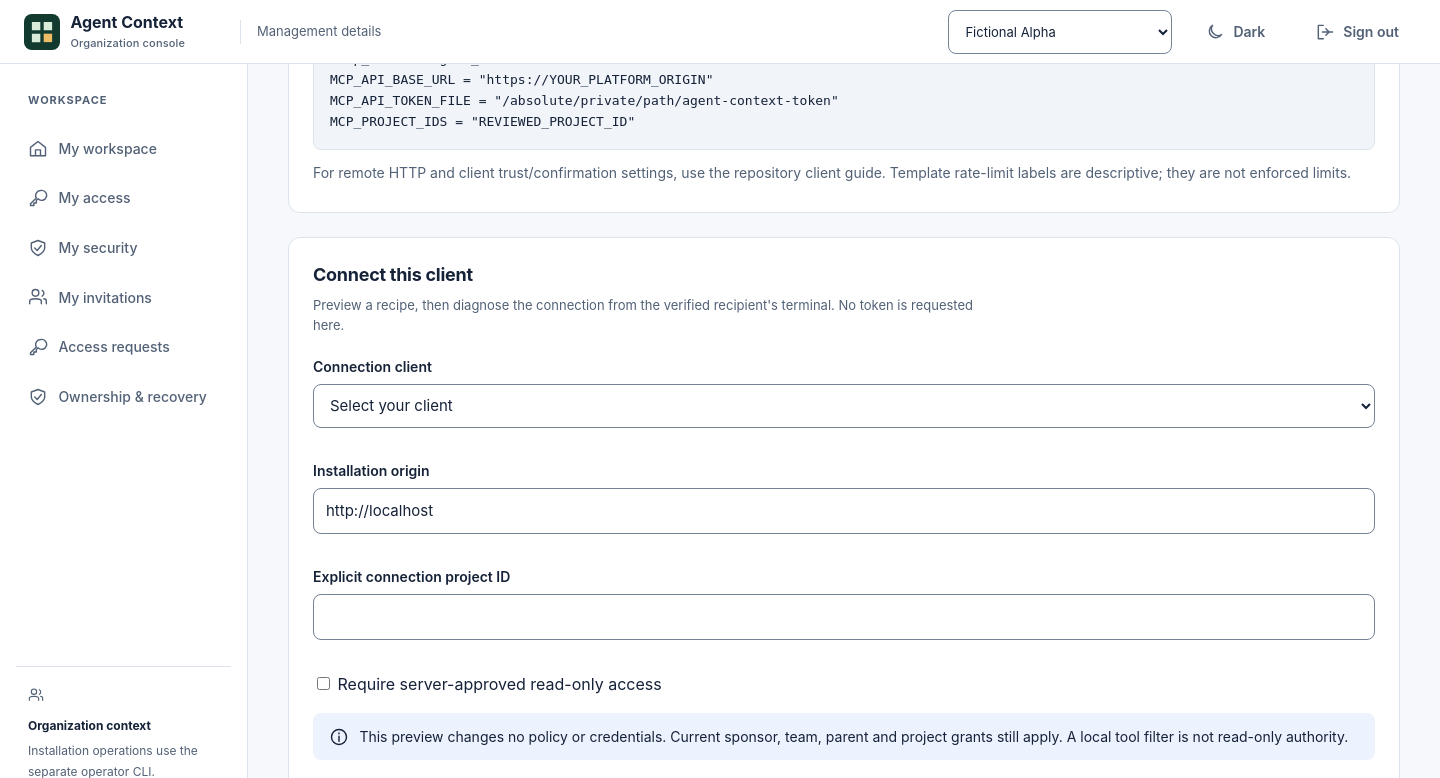
Scenario: preview-only client connection › shows a safe refusal without minting a credential or relaxing policy
(page scrolled)
Select "Codex (stdio)" in the dropdown labelled "Connection client" at (844,406), box [313,384,1375,428]
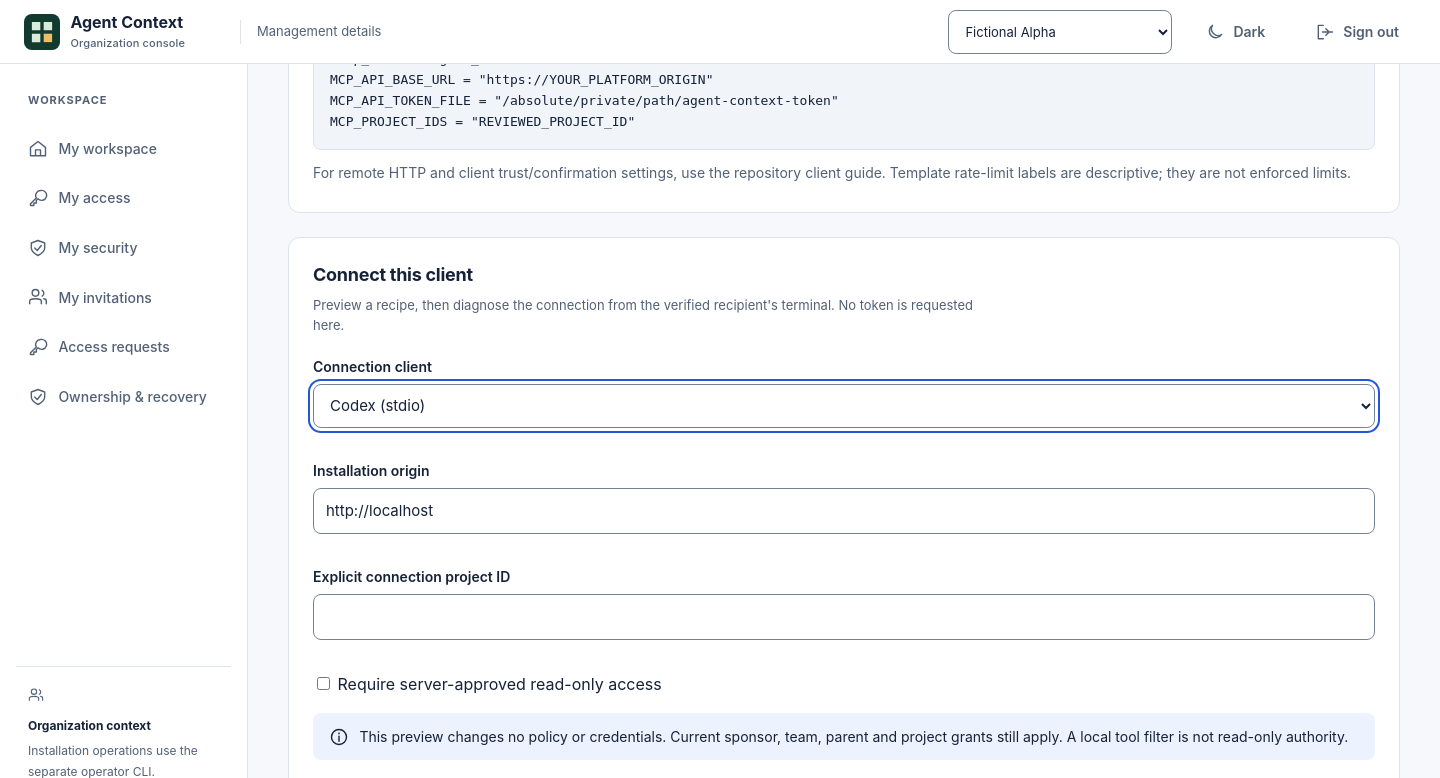
Replace the text in the field labelled "Installation origin" with "https://example.test" at (844,511), box [313,488,1375,534]
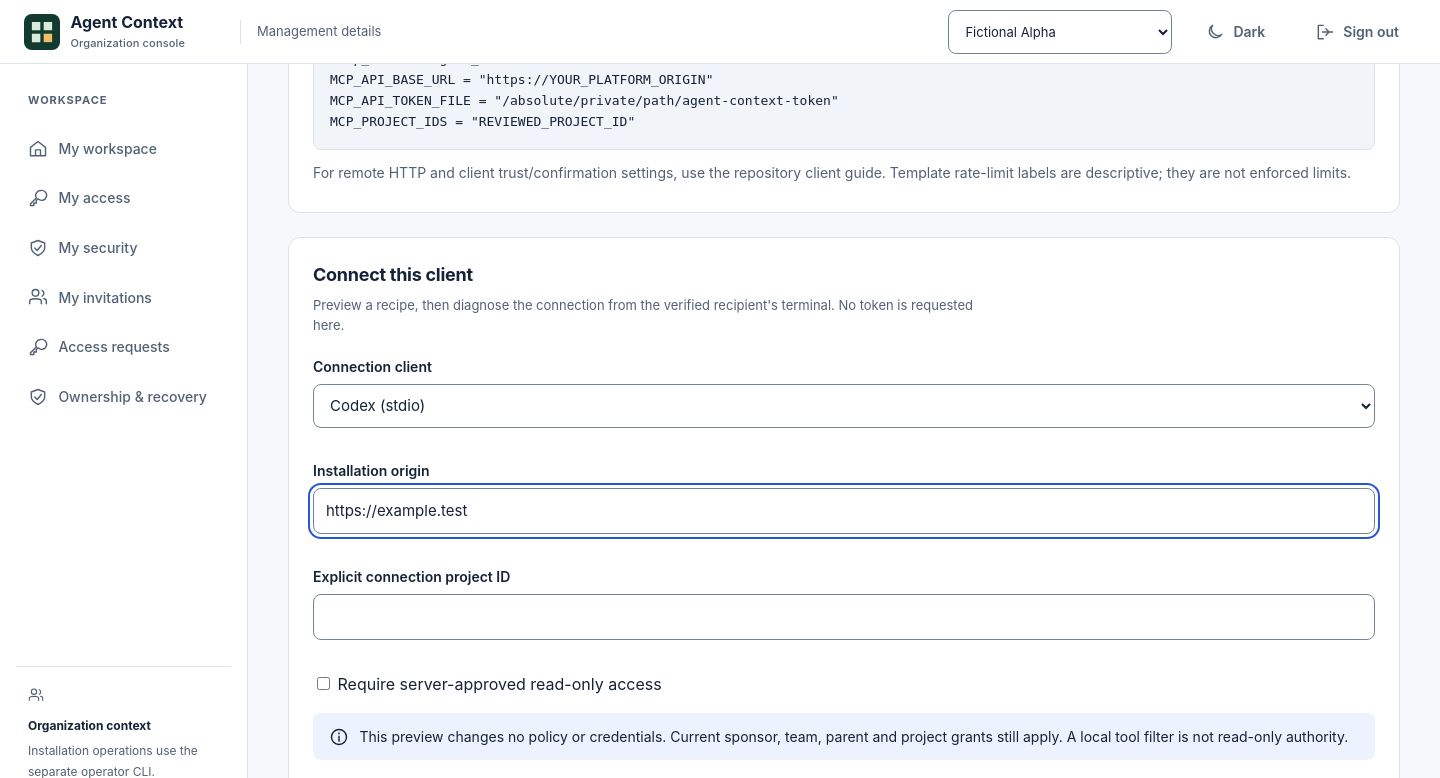
Type "fictional" into the field labelled "Explicit connection project ID" at (844,617), box [313,594,1375,640]
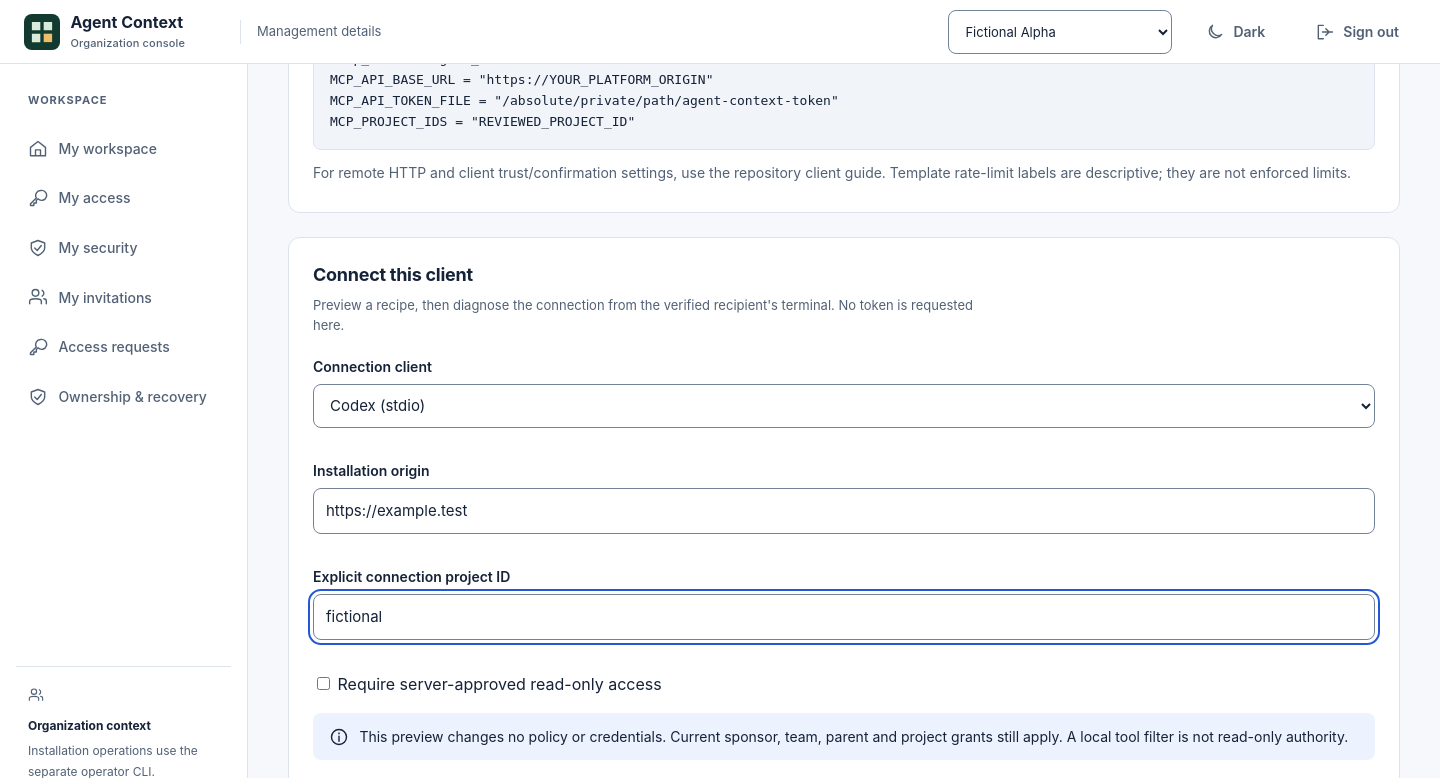
Click the checkbox labelled "Require server-approved read-only access" at (324,683), box [317,677,330,690]
(page scrolled)
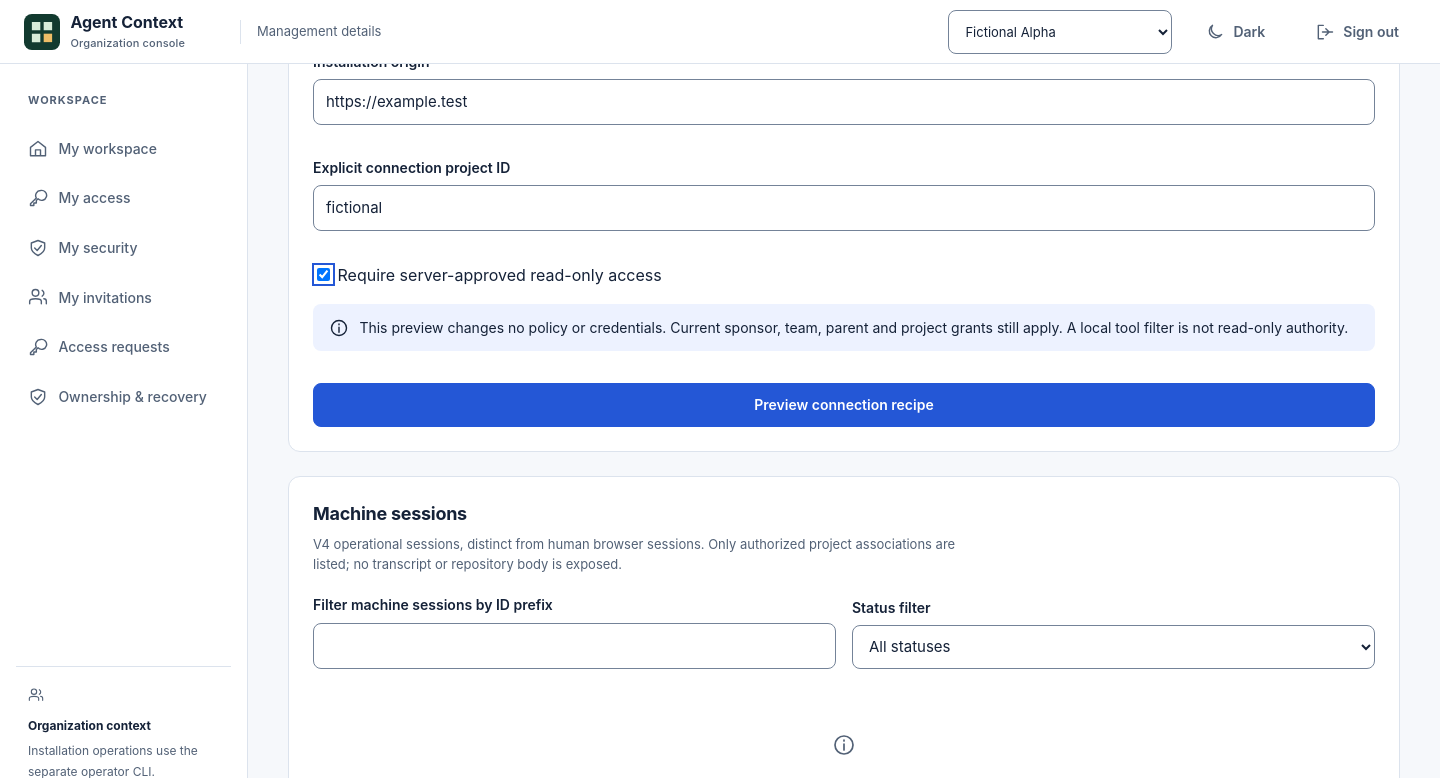
Click the button "Preview connection recipe" at (844,405), box [313,383,1375,427]
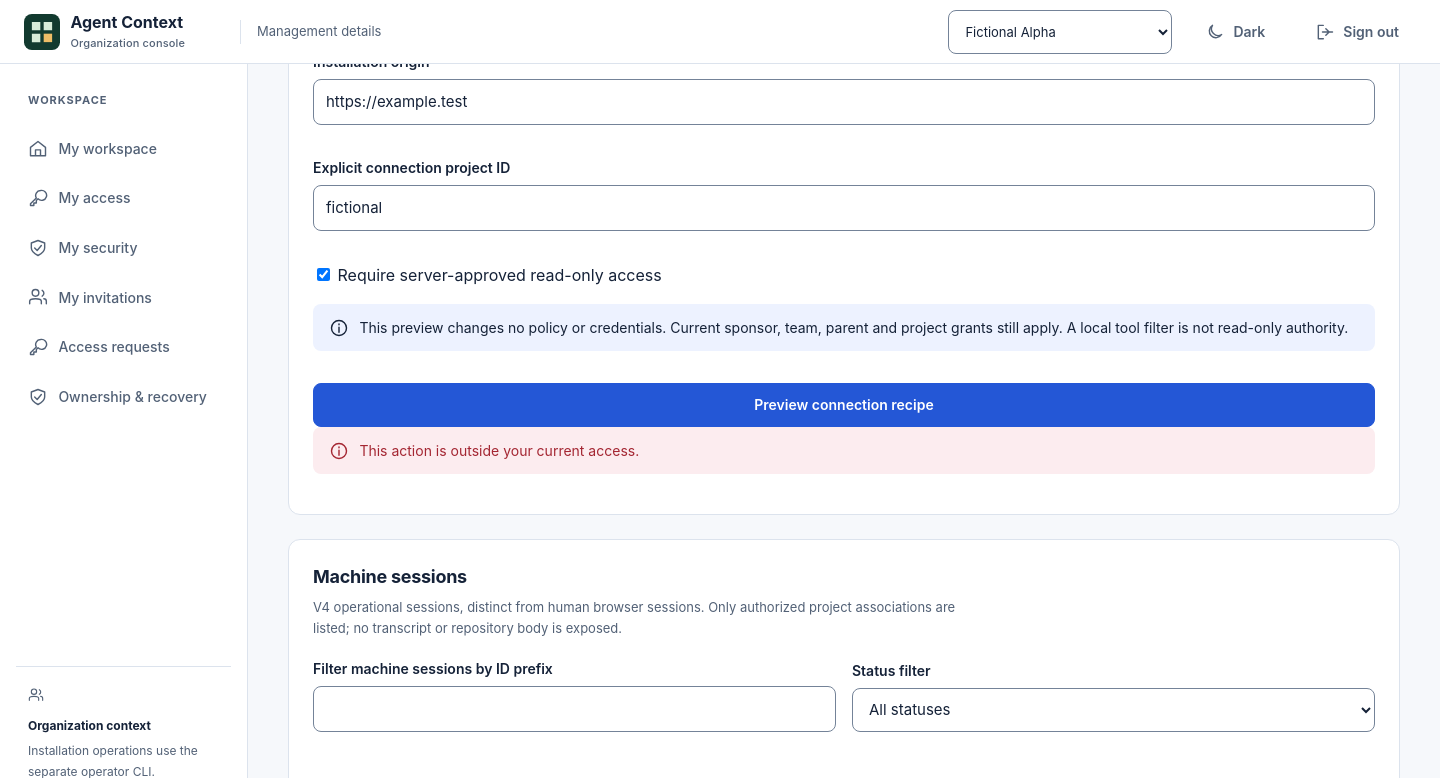
Result: the text "This action is outside your current access." is shown at [359,440,639,462]
